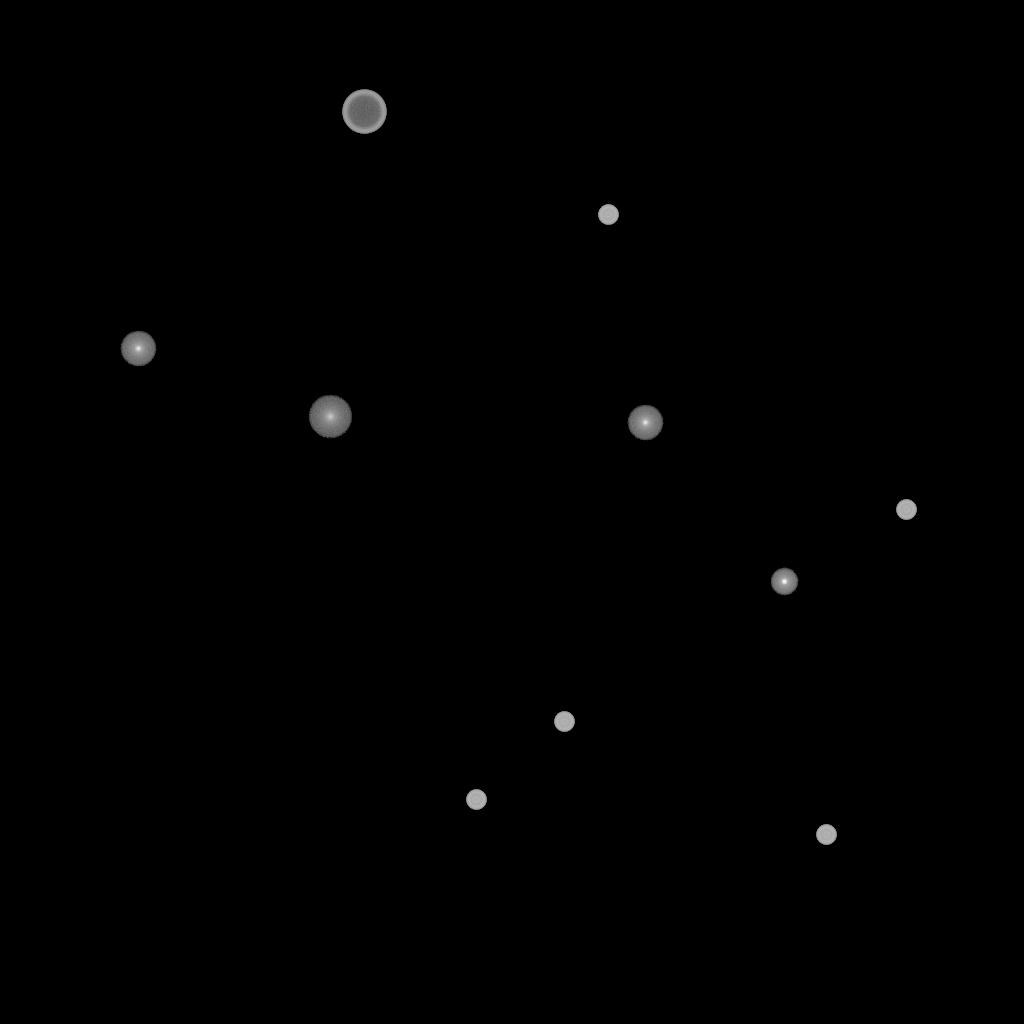depth:-10: (770, 568, 798, 596)
depth:-40: (598, 205, 618, 225), (554, 712, 574, 732), (816, 825, 836, 845), (896, 500, 916, 520), (466, 790, 486, 810)
depth:-70: (342, 90, 386, 134)
depth:0: (120, 331, 156, 367), (627, 405, 663, 441)
depth:10: (308, 395, 352, 439)
